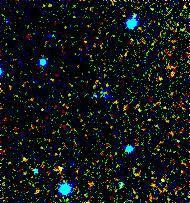star: (43, 154, 73, 184)
